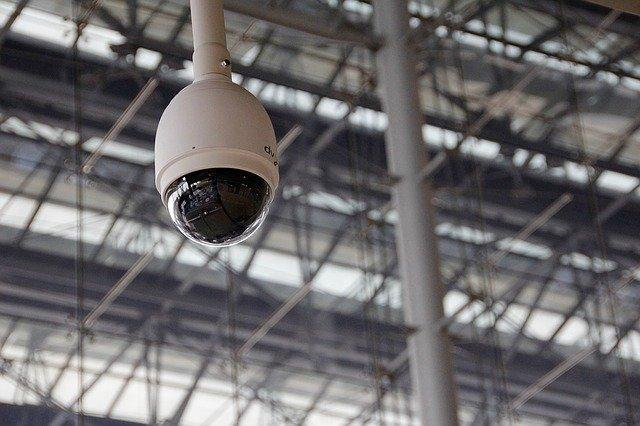360-Cam: (134, 72, 299, 251)
